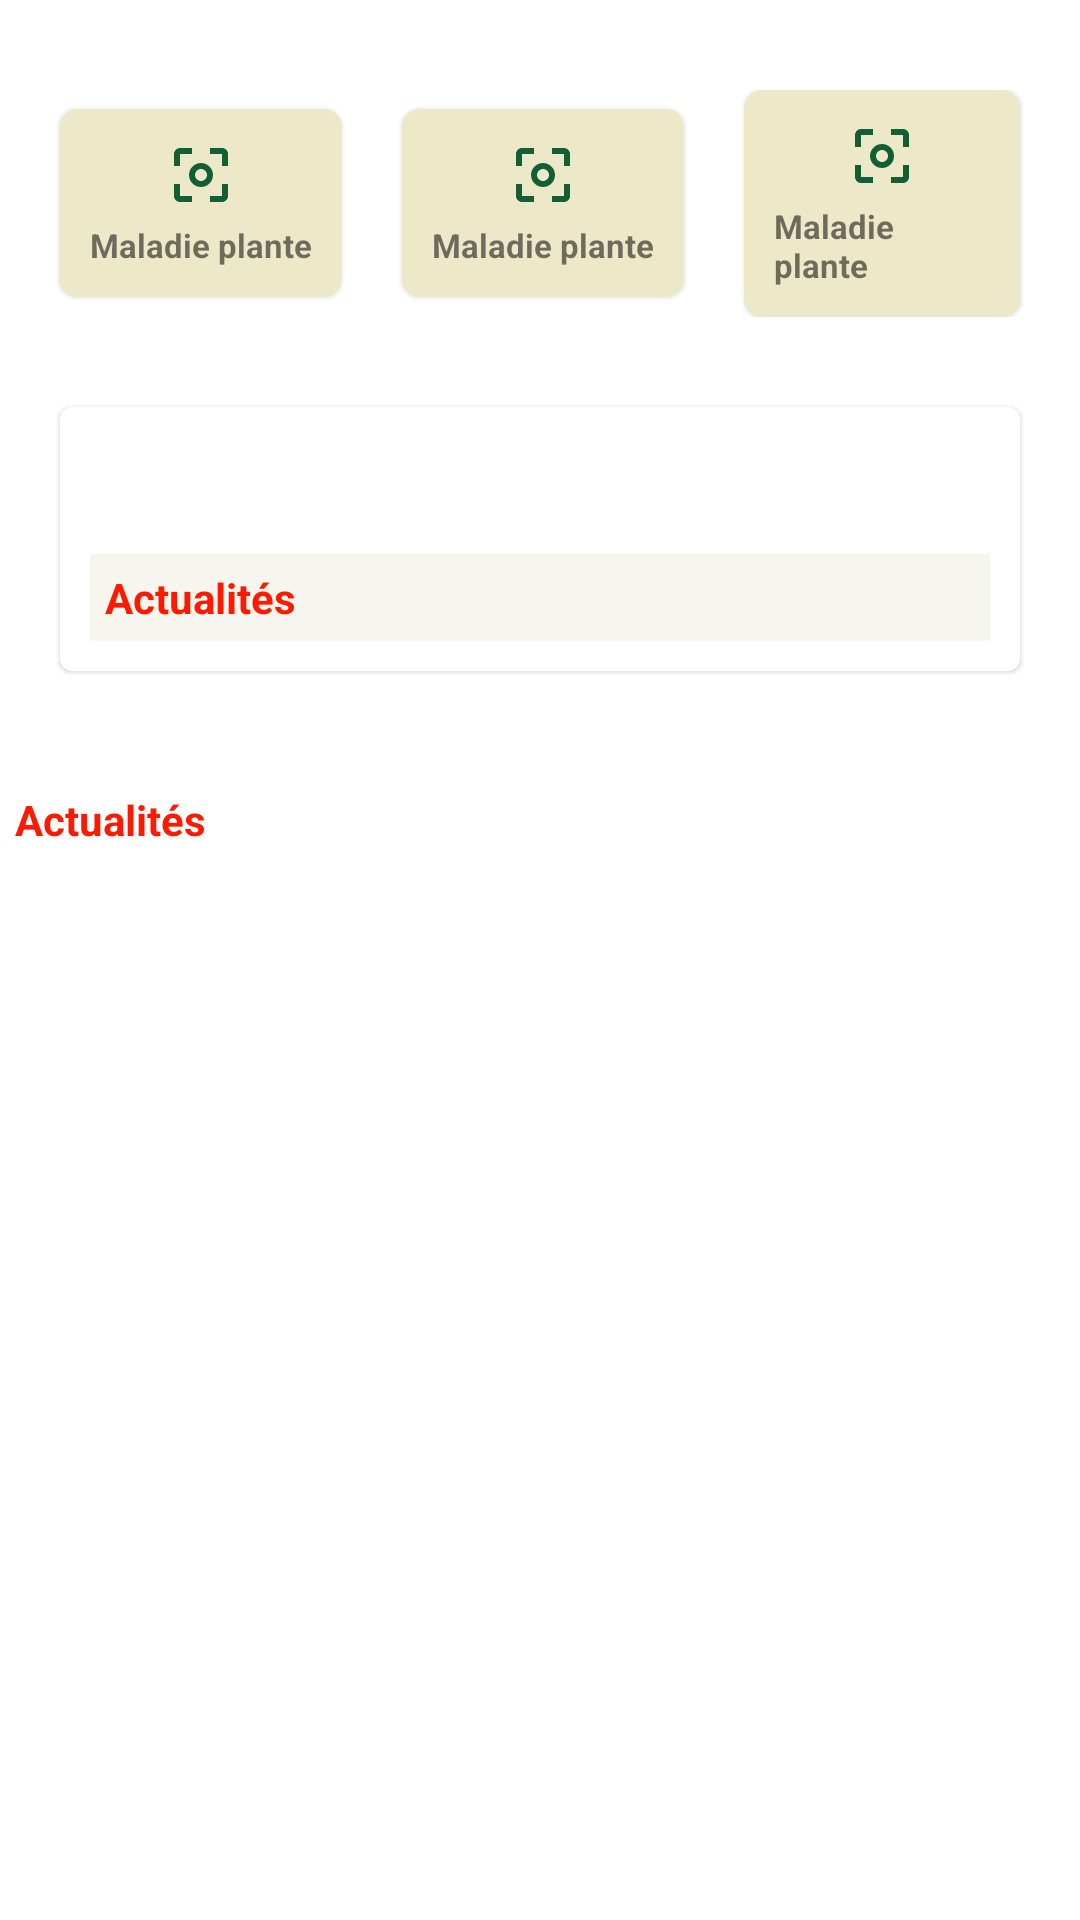

Locate icon controls on the screen. Image size 1080x1920, boxes as (x1, y1, x2, y2).
center focus weak: (855, 129, 909, 183), (174, 148, 228, 202), (516, 148, 570, 202)
